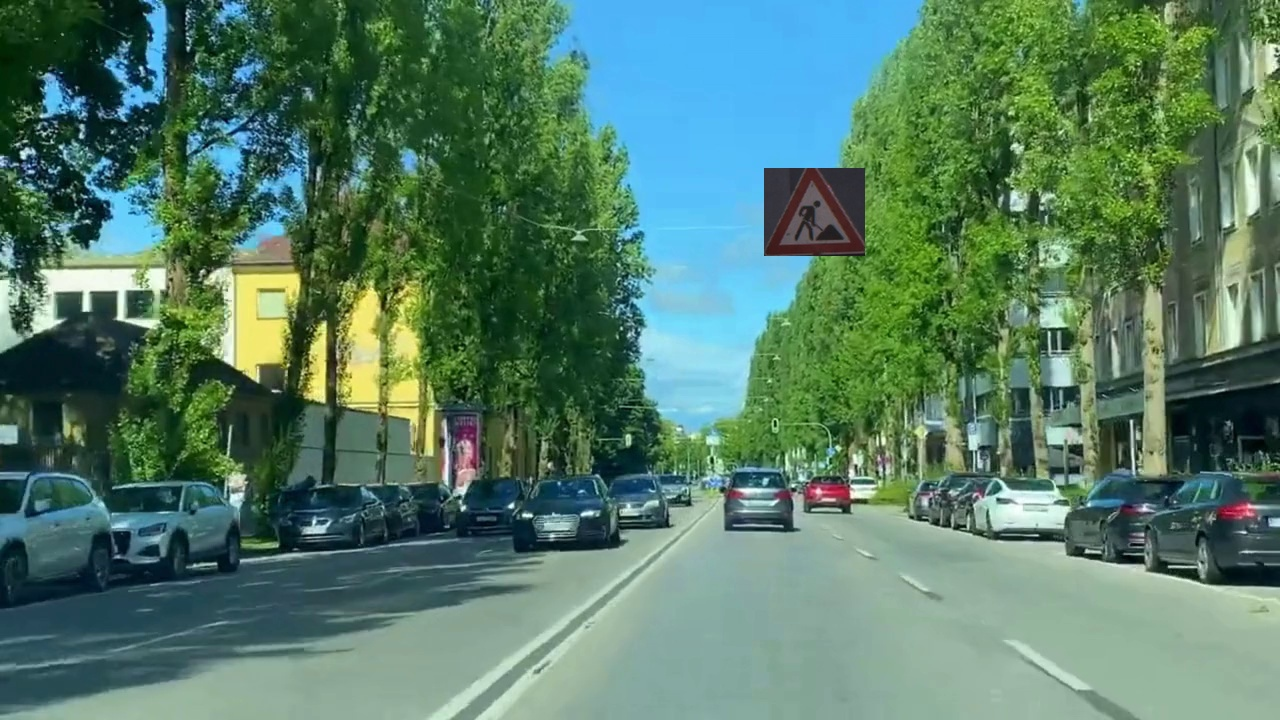Road work: (764, 168, 865, 256)
